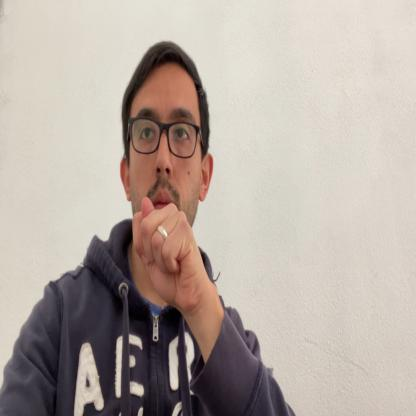T: (131, 196, 200, 310)
